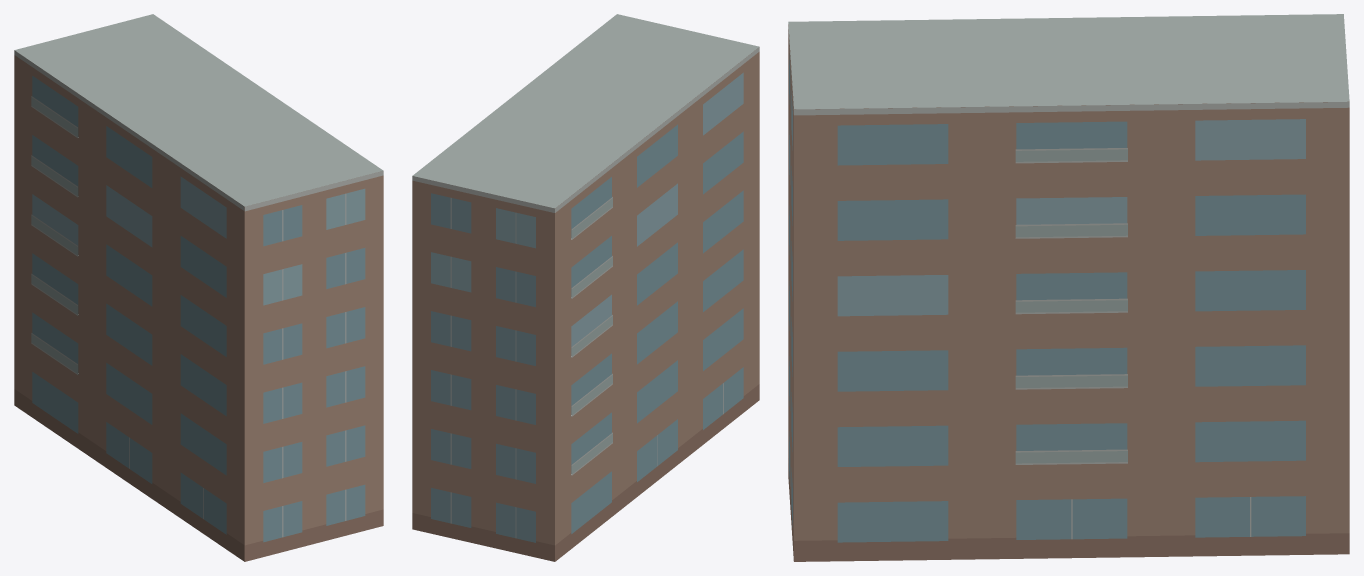
The model's file is survey-upis-32984572.glb.
3 views of the same model, side by side, from view 1: azimuth 30°, elevation 25°; view 2: azimuth 150°, elevation 25°; view 3: azimuth 270°, elevation 25° (orthographic). The views are drawn at different scales.
Parts seen in each view (by area): view 1: survey-upis-32984572.tmp; view 2: survey-upis-32984572.tmp; view 3: survey-upis-32984572.tmp.
Boxes of the visible parts, <box> form: survey-upis-32984572.tmp: <box>14,14,383,561</box>; survey-upis-32984572.tmp: <box>412,14,759,561</box>; survey-upis-32984572.tmp: <box>788,14,1349,561</box>.
Bounding box in the file's own units: 8.29 × 18.3 × 20.59.
